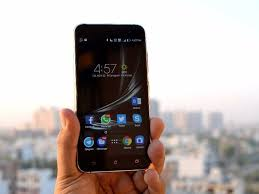asus: (69, 21, 154, 174)
